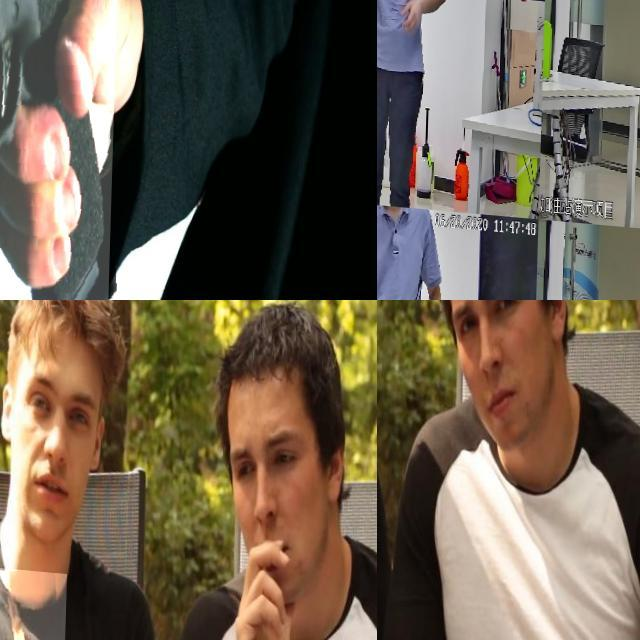-: (377, 436, 421, 640), (0, 565, 68, 640)
gun-knife-thesis - v11 Yolov5 augmented: (0, 0, 161, 300), (377, 0, 415, 27)
